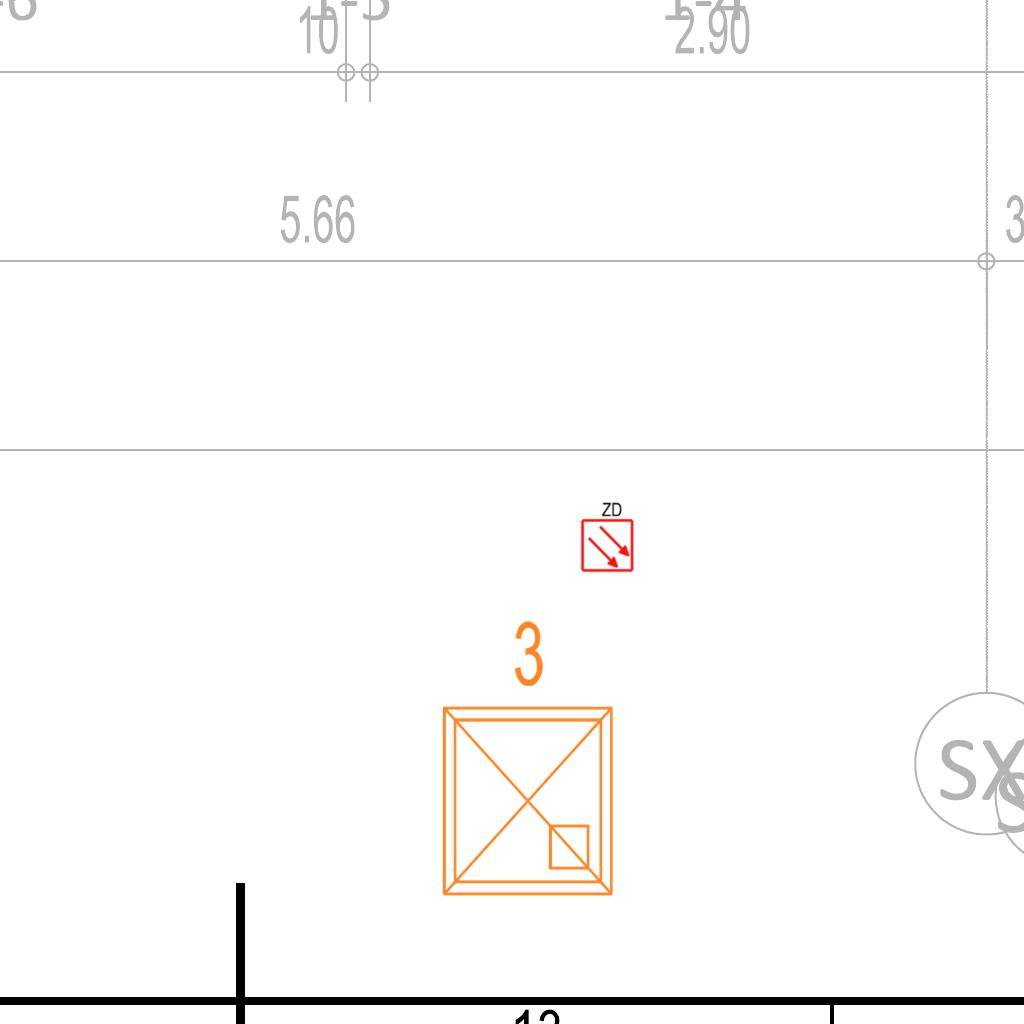Einbaudownlights_LED_Konferenzraeume: (420, 610, 628, 910)
ZD_Melder_in_Zwischendecke_mit_Revisionsoeffnung_mind_40_x_40_cm: (578, 499, 635, 573)
